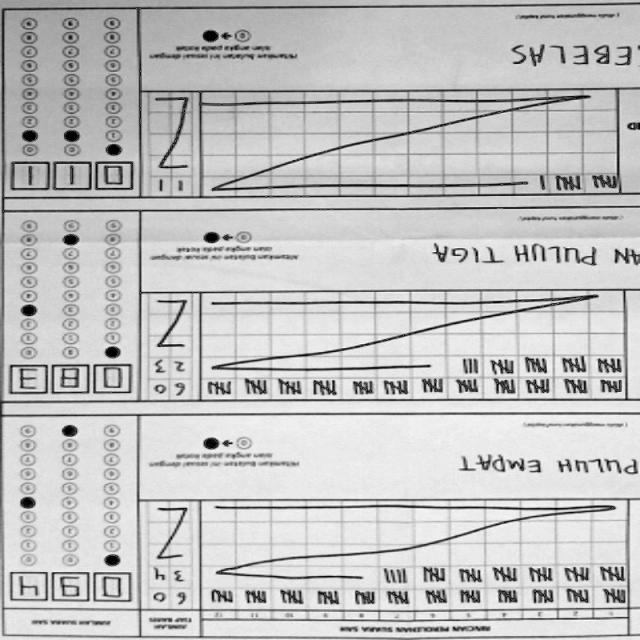Suara: (8, 362, 138, 400), (4, 159, 138, 195), (12, 570, 136, 606)
